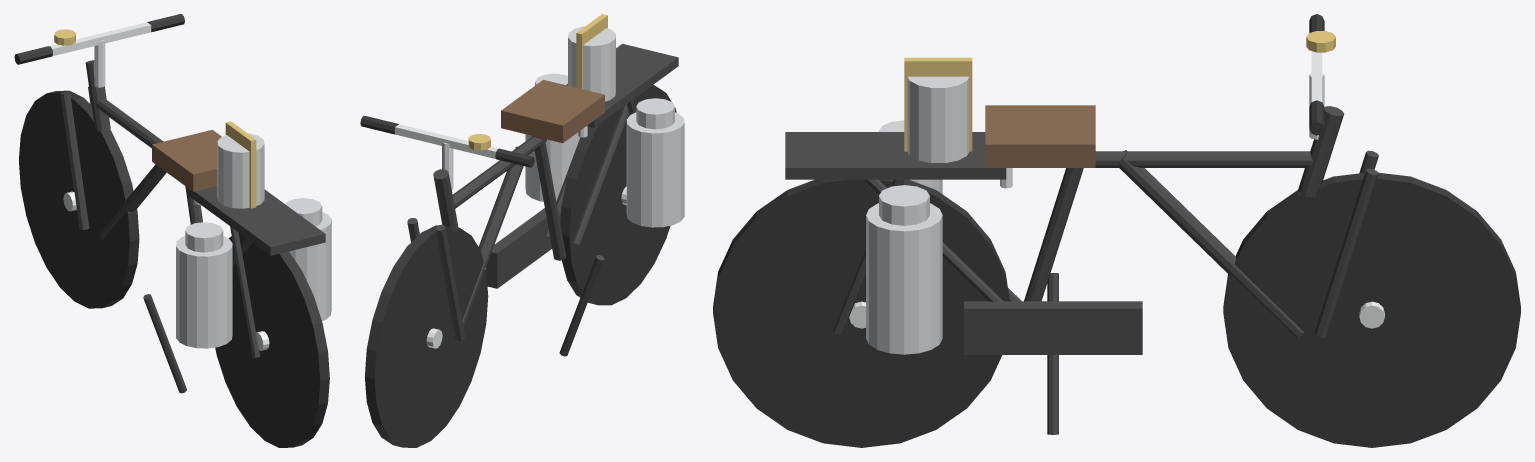
File: prop_delivery_bicycle_01.glb
3 renders of one model, left to right at view 1: azimuth 30°, elevation 25°; view 2: azimuth 150°, elevation 25°; view 3: azimuth 270°, elevation 25°, orthographic. The views are drawn at different scales.
Visible parts, largest first — view 1: Bike_Front_Tire.003, Bike_Rear_Tire.003, Bike_Milk_Can_L.003, Bike_Carrier_Bed.003, Bike_Saddle.003, Bike_Tiffin_Stack.003, Bike_Milk_Can_R.003, Bike_Fork_L.003, Bike_Handlebar_Cross.003, Bike_Milk_Lid_L.003, Bike_Carrier_Stay_L.003, Bike_Down_Tube.003 (+10 smaller); view 2: Bike_Front_Tire.003, Bike_Rear_Tire.003, Bike_Milk_Can_L.003, Bike_Saddle.003, Bike_Carrier_Bed.003, Bike_Chain_Guard.003, Bike_Tiffin_Stack.003, Bike_Down_Tube.003, Bike_Milk_Can_R.003, Bike_Seat_Tube.003, Bike_Rear_Stay_L.003, Bike_Fork_L.003 (+10 smaller); view 3: Bike_Front_Tire.003, Bike_Rear_Tire.003, Bike_Milk_Can_R.003, Bike_Chain_Guard.003, Bike_Carrier_Bed.003, Bike_Saddle.003, Bike_Tiffin_Stack.003, Bike_Down_Tube.003, Bike_Top_Tube.003, Bike_Fork_R.003, Bike_Seat_Tube.003, Bike_Tiffin_Handle.003 (+5 smaller).
Part boxes in pixels (x1=…): Bike_Front_Tire.003: x1=19, y1=90, x2=139, y2=308; Bike_Rear_Tire.003: x1=215, y1=232, x2=329, y2=447; Bike_Milk_Can_L.003: x1=176, y1=236, x2=232, y2=348; Bike_Carrier_Bed.003: x1=188, y1=186, x2=325, y2=255; Bike_Saddle.003: x1=152, y1=129, x2=221, y2=191; Bike_Tiffin_Stack.003: x1=217, y1=133, x2=264, y2=208; Bike_Milk_Can_R.003: x1=289, y1=212, x2=331, y2=320; Bike_Fork_L.003: x1=60, y1=92, x2=89, y2=229; Bike_Handlebar_Cross.003: x1=49, y1=22, x2=151, y2=56; Bike_Milk_Lid_L.003: x1=185, y1=222, x2=223, y2=252; Bike_Carrier_Stay_L.003: x1=230, y1=226, x2=260, y2=357; Bike_Down_Tube.003: x1=99, y1=164, x2=166, y2=239; Bike_Front_Tire.003: x1=365, y1=225, x2=488, y2=447; Bike_Rear_Tire.003: x1=560, y1=85, x2=676, y2=305; Bike_Milk_Can_L.003: x1=626, y1=112, x2=684, y2=227; Bike_Saddle.003: x1=501, y1=79, x2=604, y2=143; Bike_Carrier_Bed.003: x1=566, y1=43, x2=678, y2=127; Bike_Chain_Guard.003: x1=486, y1=208, x2=560, y2=288; Bike_Tiffin_Stack.003: x1=568, y1=26, x2=615, y2=101; Bike_Down_Tube.003: x1=462, y1=146, x2=528, y2=326; Bike_Milk_Can_R.003: x1=525, y1=132, x2=580, y2=201; Bike_Seat_Tube.003: x1=532, y1=136, x2=565, y2=260; Bike_Rear_Stay_L.003: x1=571, y1=98, x2=634, y2=245; Bike_Fork_L.003: x1=435, y1=224, x2=464, y2=340; Bike_Front_Tire.003: x1=1223, y1=172, x2=1520, y2=447; Bike_Rear_Tire.003: x1=713, y1=179, x2=1009, y2=447; Bike_Milk_Can_R.003: x1=866, y1=203, x2=942, y2=354; Bike_Chain_Guard.003: x1=964, y1=301, x2=1142, y2=354; Bike_Carrier_Bed.003: x1=785, y1=132, x2=1006, y2=179; Bike_Saddle.003: x1=985, y1=105, x2=1095, y2=167; Bike_Tiffin_Stack.003: x1=907, y1=76, x2=969, y2=162; Bike_Down_Tube.003: x1=1118, y1=150, x2=1303, y2=337; Bike_Top_Tube.003: x1=1095, y1=151, x2=1312, y2=167; Bike_Fork_R.003: x1=1314, y1=168, x2=1378, y2=337; Bike_Seat_Tube.003: x1=1024, y1=168, x2=1083, y2=301; Bike_Tiffin_Handle.003: x1=904, y1=57, x2=972, y2=151.
Size of what is drawn, in the model's own units: 0.6 by 1.01 by 1.9.
